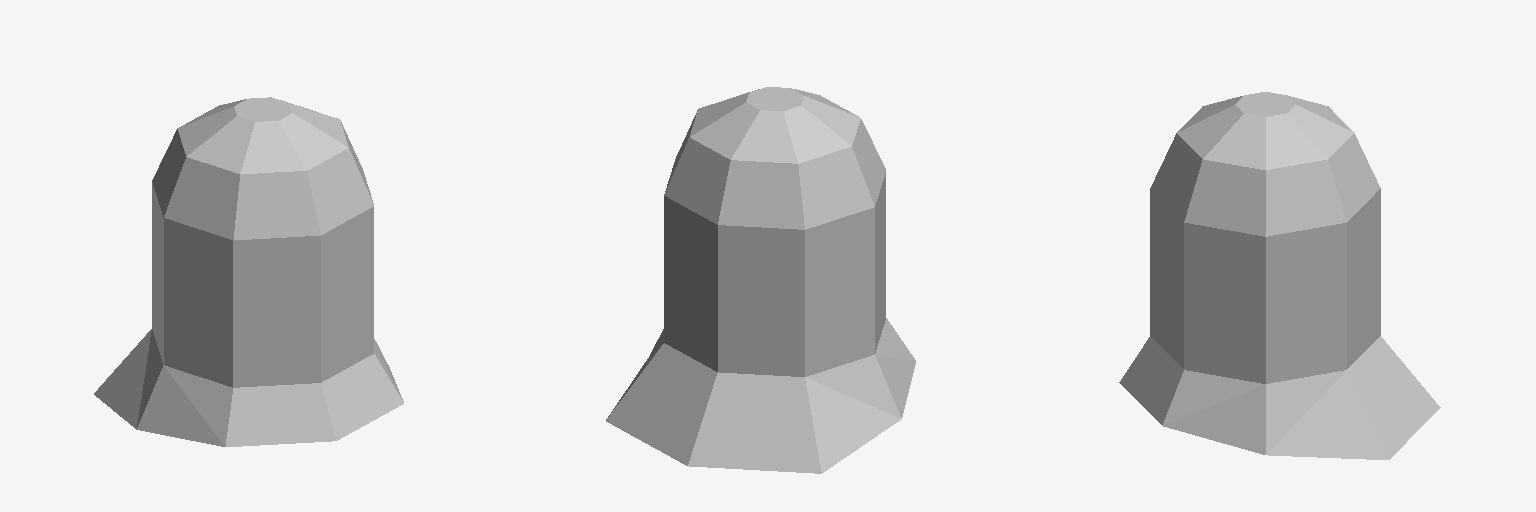
File: Enemy.obj
3 renders of one model, left to right at view 1: azimuth 30°, elevation 25°; view 2: azimuth 150°, elevation 25°; view 3: azimuth 270°, elevation 25°, orthographic.
Parts seen in each view (by area): view 1: 円; view 2: 円; view 3: 円.
Part boxes in pixels (x1,y1,x2,y2): 円: (94, 97, 403, 446); 円: (606, 87, 915, 473); 円: (1119, 92, 1440, 459).
Bounding box in the file's own units: 2.54 × 2.91 × 2.79.